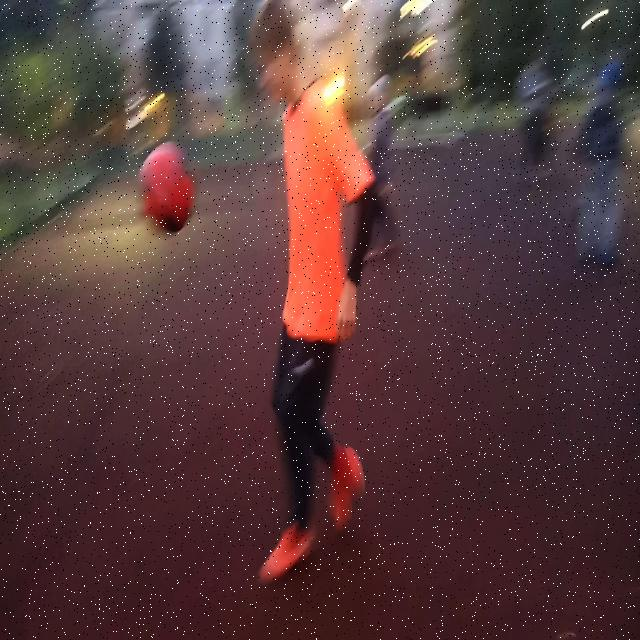ball: (139, 143, 195, 235)
